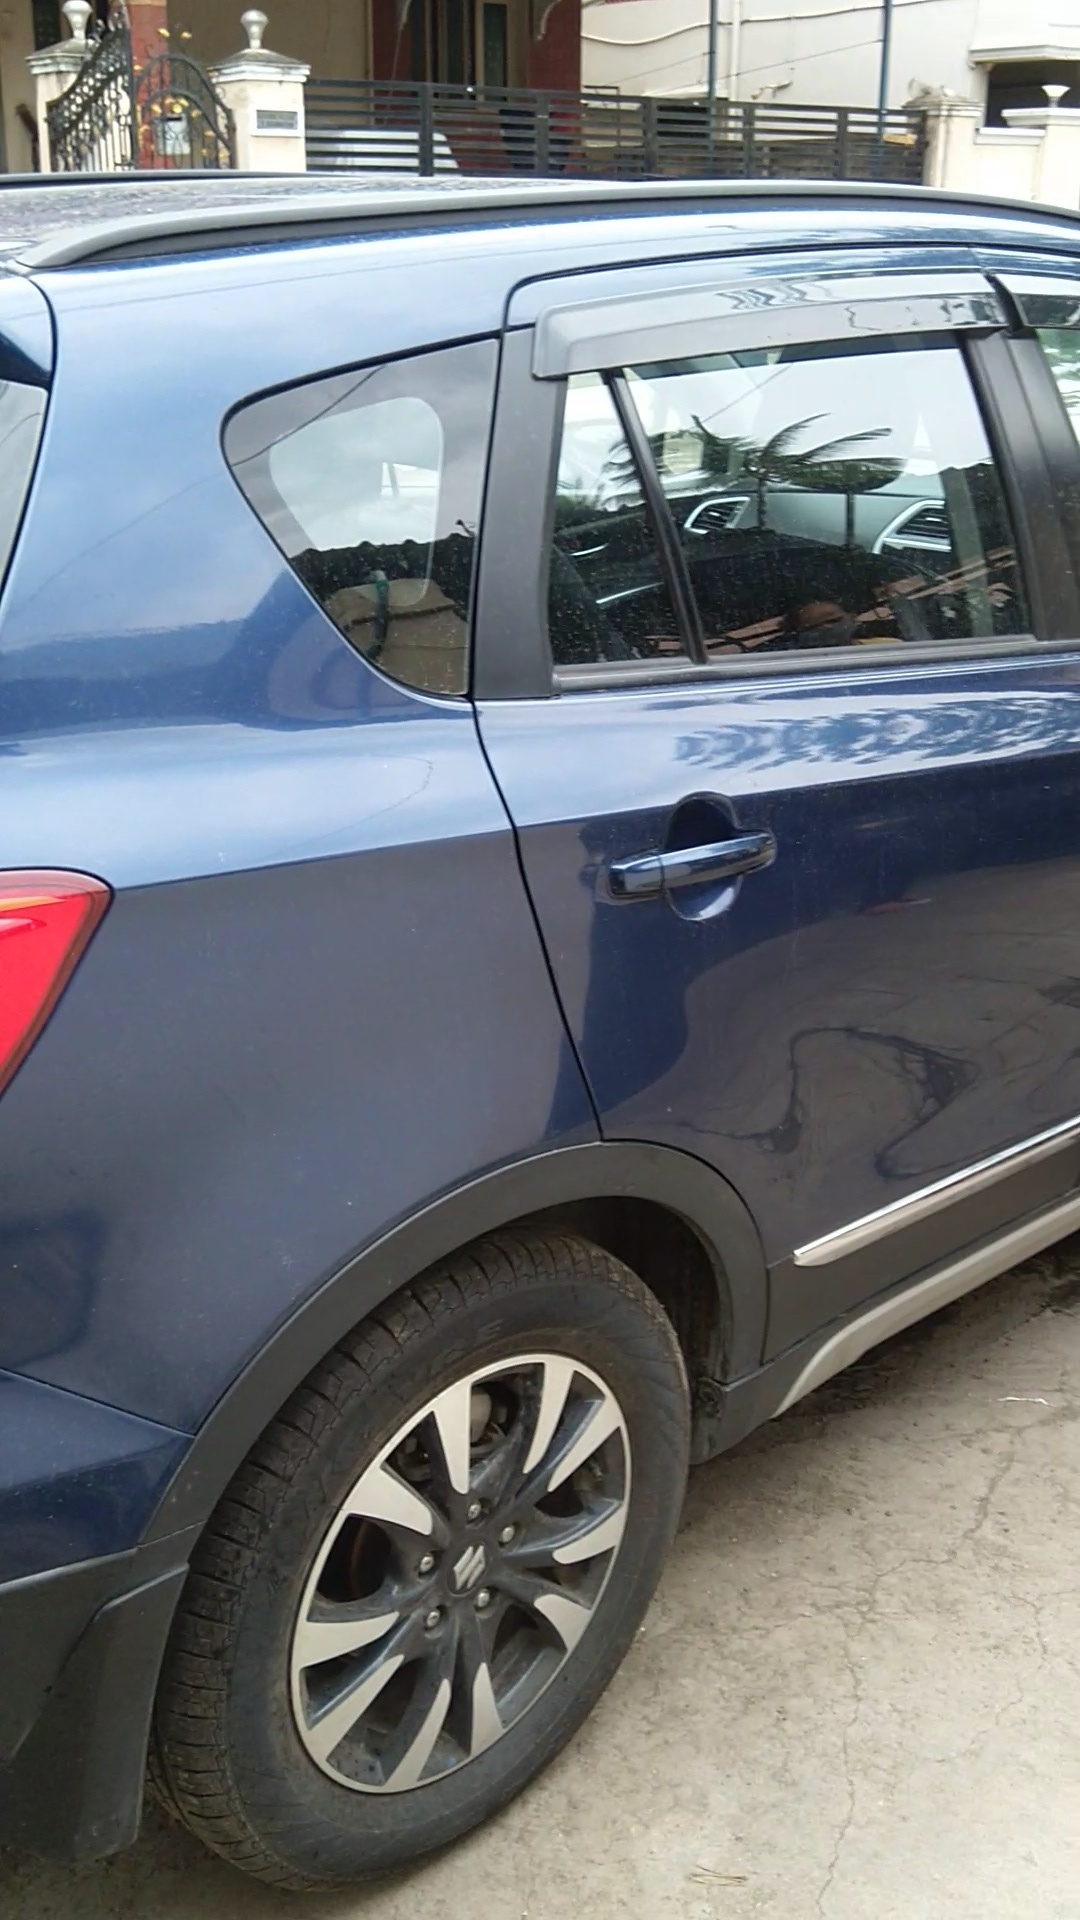alloy_wheel: (189, 1255, 686, 1898)
